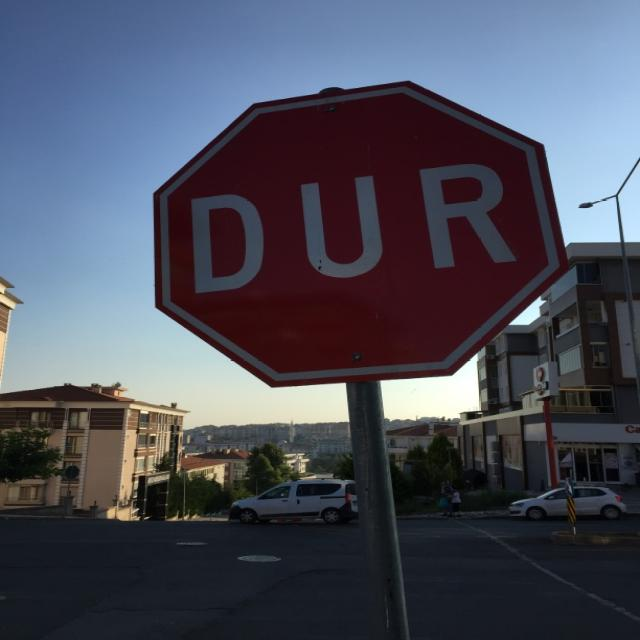dur: (152, 80, 576, 388)
